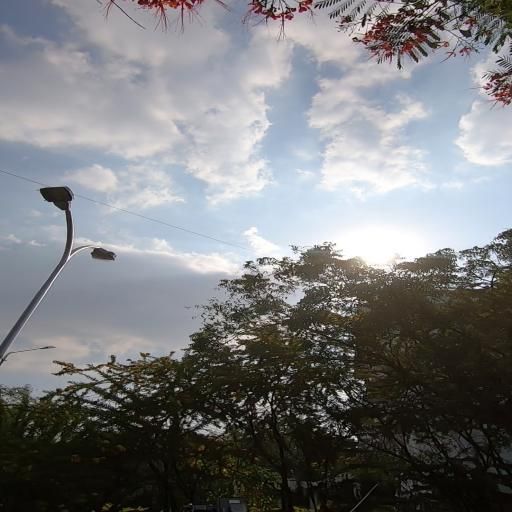Street_light: (31, 184, 89, 242), (71, 246, 122, 268), (8, 343, 60, 357)
